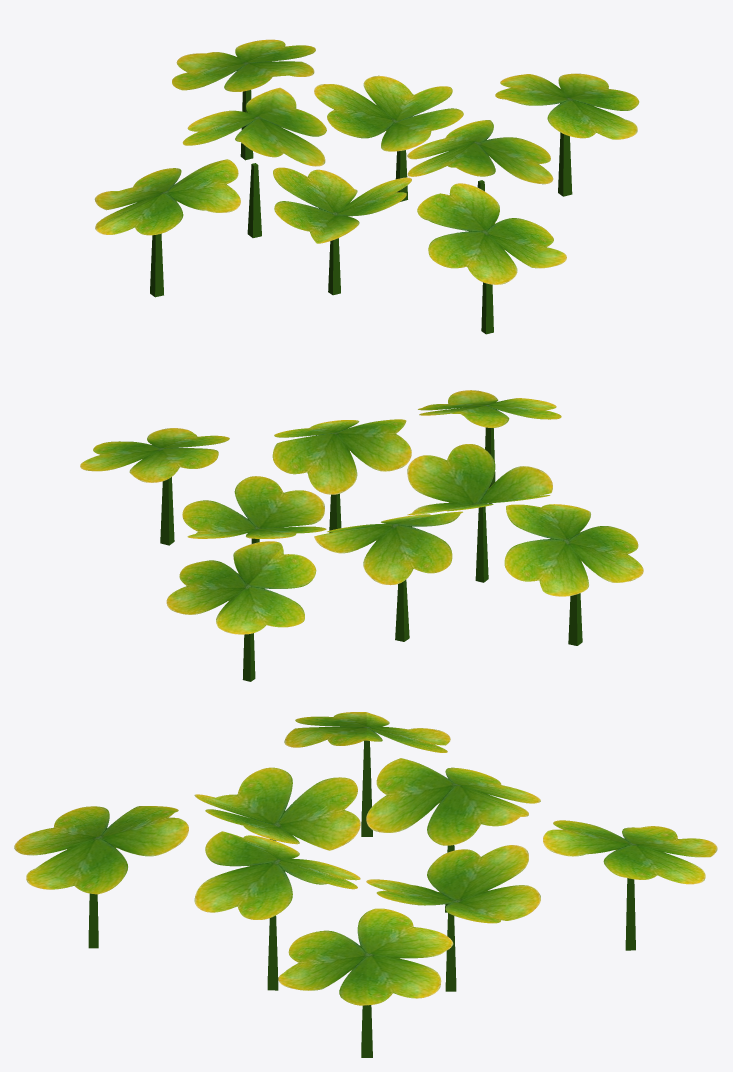
File: flowers.fbx
3 views of the same model, one above another, from view 1: azimuth 30°, elevation 25°; view 2: azimuth 150°, elevation 25°; view 3: azimuth 270°, elevation 25° (orthographic). The views are drawn at different scales.
Visible parts, largest first — view 1: Flowers; view 2: Flowers; view 3: Flowers.
Part boxes in pixels (x1,y1,x2,y2): Flowers: (94, 39, 639, 334); Flowers: (80, 390, 643, 681); Flowers: (14, 712, 717, 1057).
Bounding box in the file's own units: 139 × 29.3 × 139.
